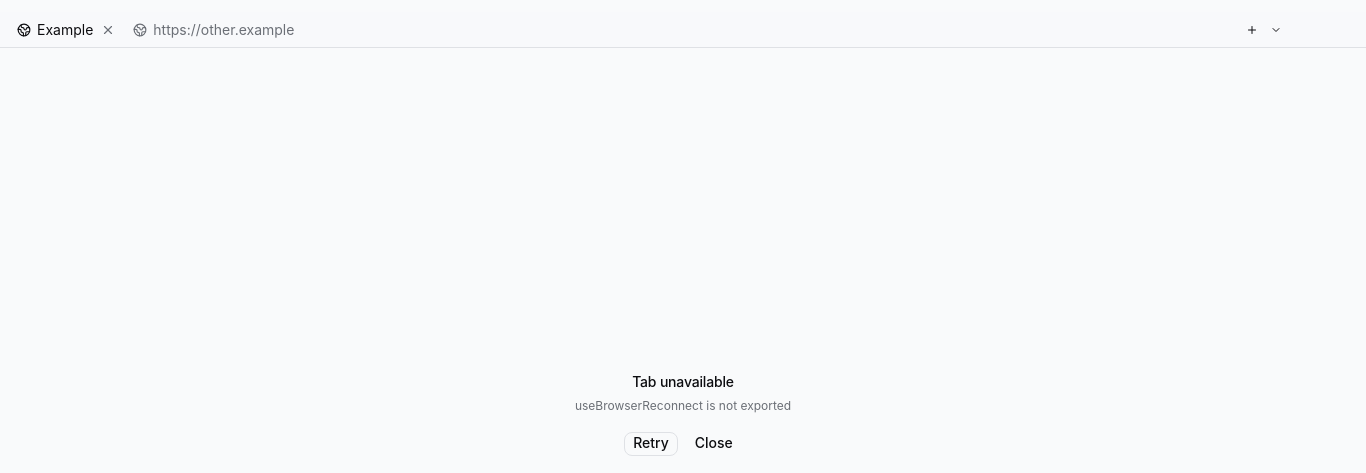
Test: opens a New tab page from + and turns it into the chosen surface in place
The width and height of the screenshot is (1366, 473).
Click the button named "New tab": (1252, 30) [1238,16,1266,44]
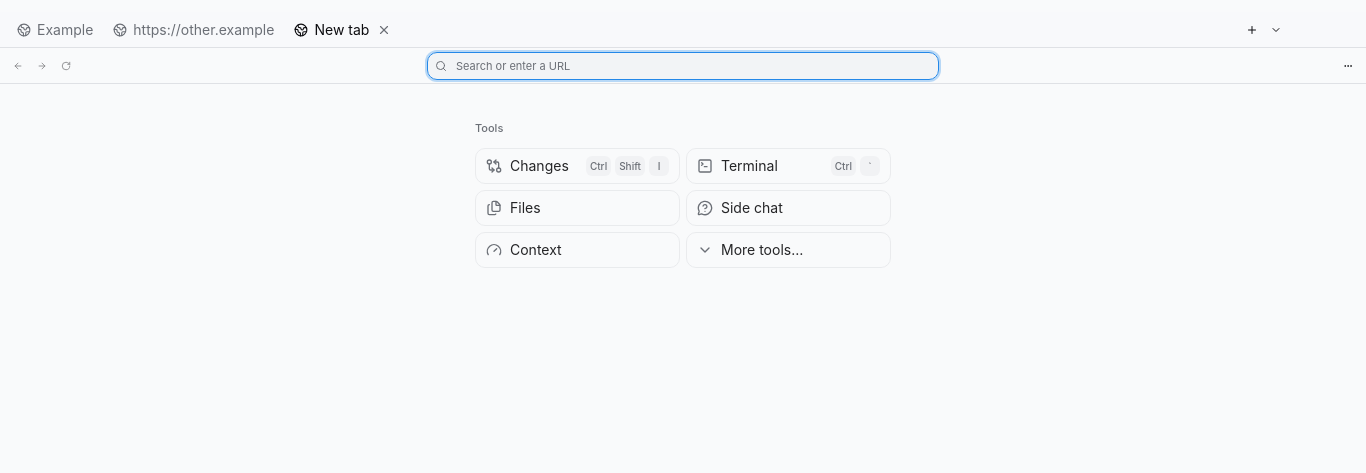
Click the button "Changes Ctrl Shift I": (578, 166) [475,148,680,184]
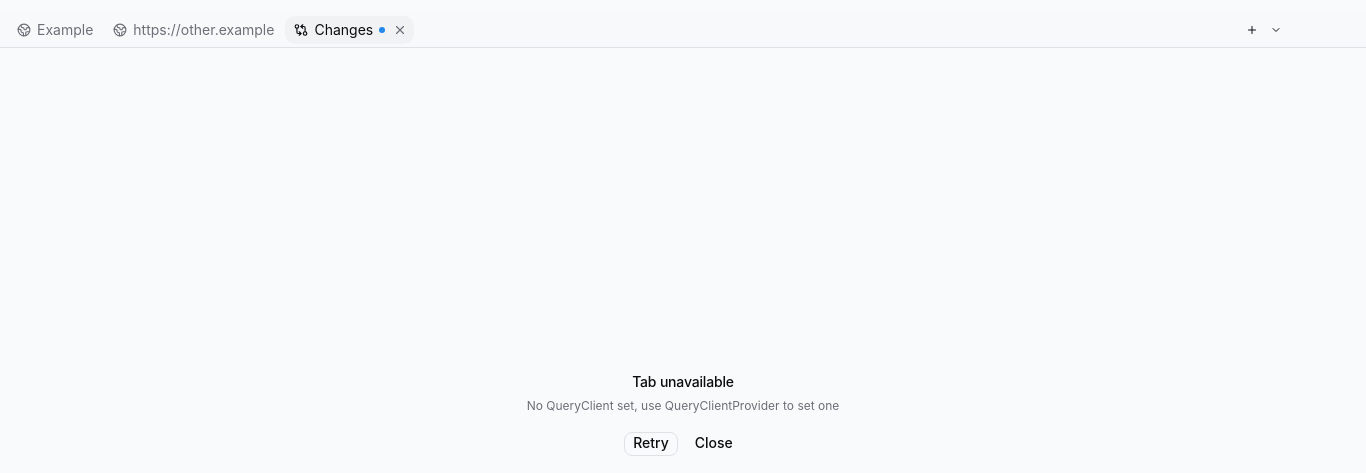
Now the tab "Changes" is shown, box [285,16,414,44]
Now the tab "New tab" is gone
